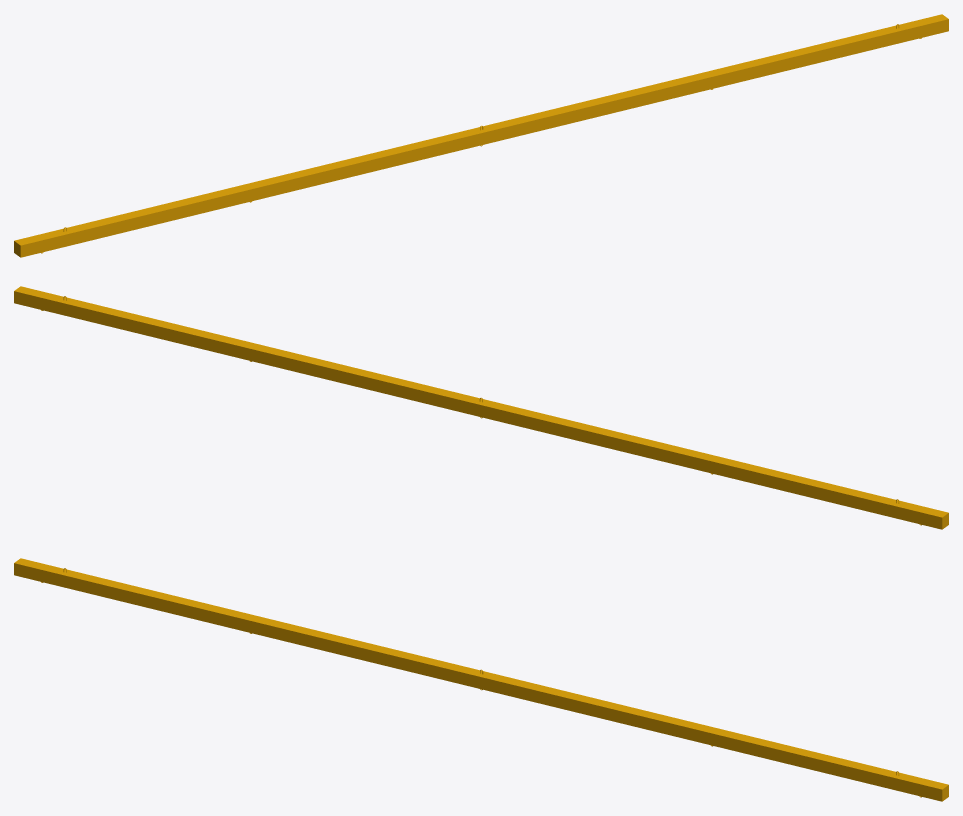
File: Crane_LiftingBeam.fbx
3 views of the same model, one above another, from view 1: azimuth 30°, elevation 25°; view 2: azimuth 150°, elevation 25°; view 3: azimuth 330°, elevation 25° (orthographic).
Parts seen in each view (by area): view 1: Crane_LiftingBeam; view 2: Crane_LiftingBeam; view 3: Crane_LiftingBeam.
Part boxes in pixels (x1,y1,x2,y2): Crane_LiftingBeam: [14, 14, 948, 257]; Crane_LiftingBeam: [14, 286, 948, 529]; Crane_LiftingBeam: [14, 558, 948, 801].
Bounding box in the file's own units: 1219 × 25.68 × 15.24.
